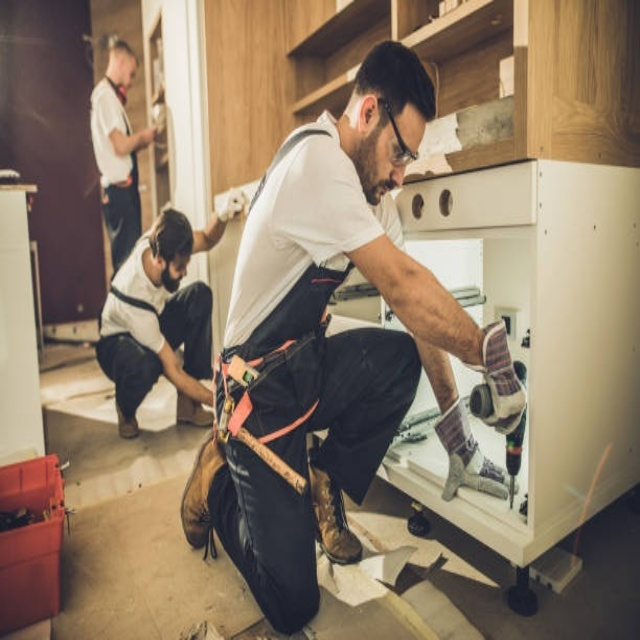Gafas: (380, 100, 420, 168)
Guantes: (435, 392, 520, 507), (474, 317, 526, 430), (214, 180, 246, 227)
Sin_mascara: (368, 174, 401, 205)
